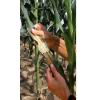Corn leaf blight: (22, 3, 60, 74)
